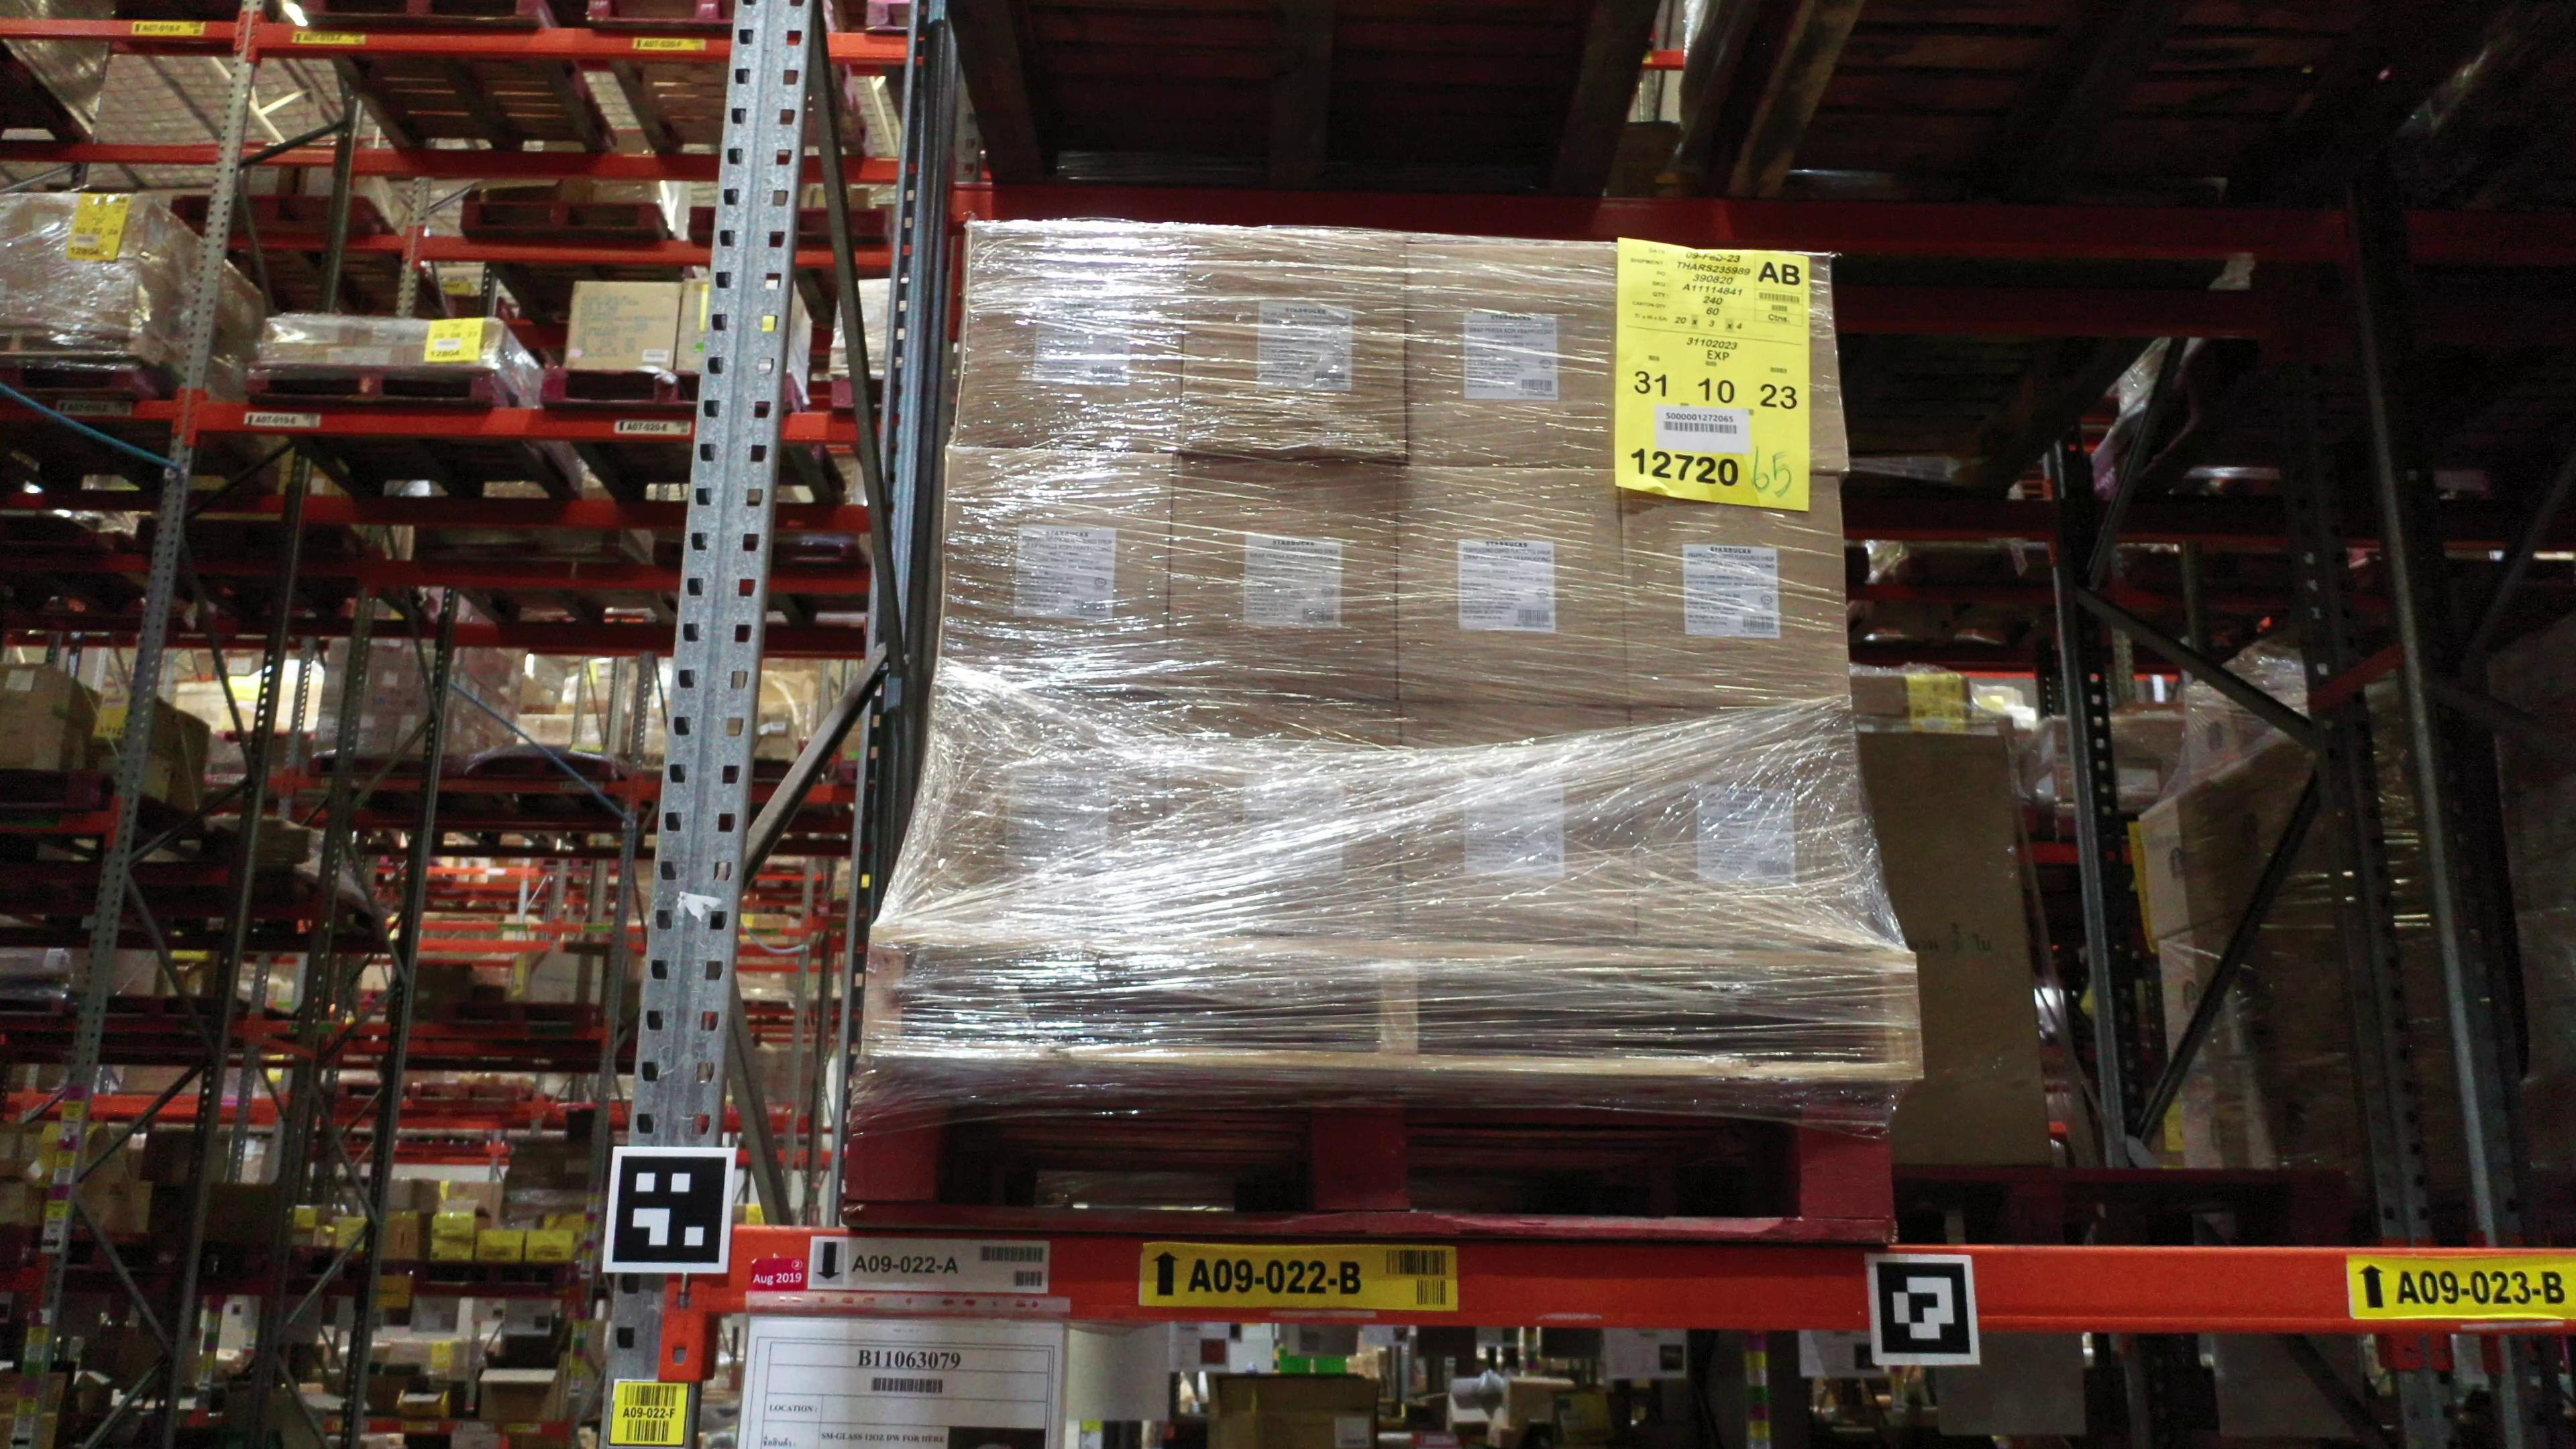-: (895, 694, 1175, 943), (931, 442, 1171, 697), (1162, 451, 1399, 706), (1628, 706, 1870, 948), (1161, 702, 1405, 941), (1617, 465, 1851, 715), (950, 218, 1189, 458), (1398, 458, 1626, 709), (1396, 709, 1637, 947), (1178, 219, 1407, 464), (1619, 242, 1849, 474), (1405, 232, 1621, 467)
